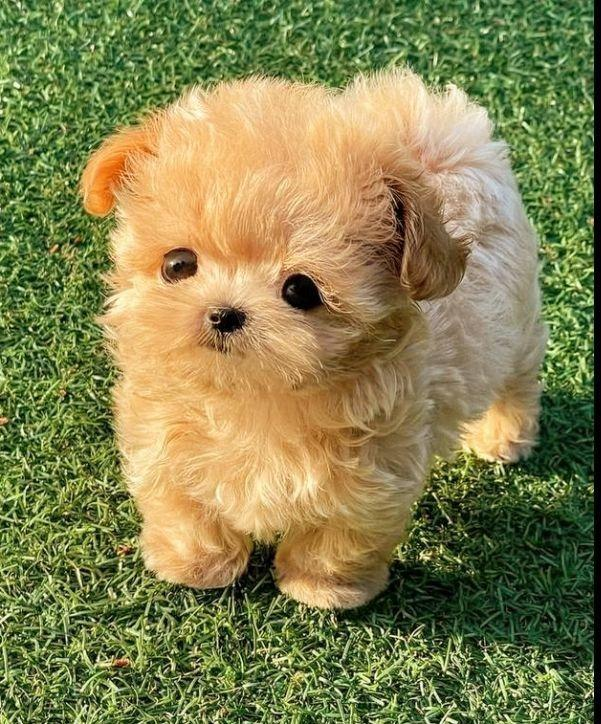puppy-dog: (76, 67, 554, 616)
